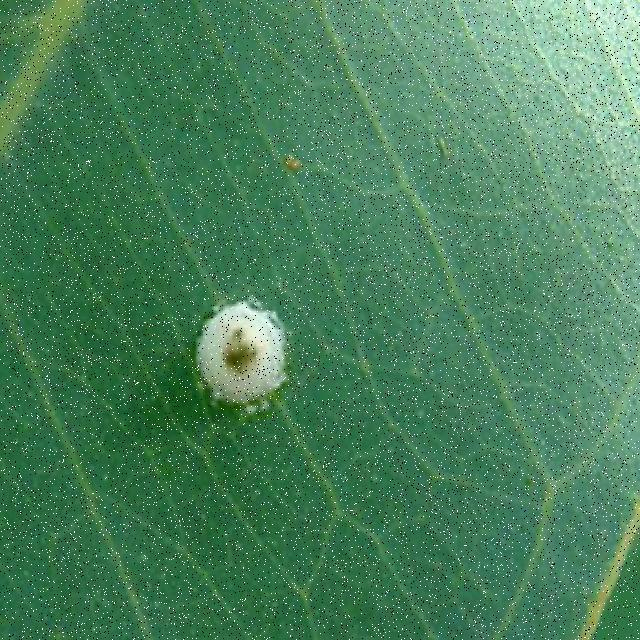Whiteflies: (172, 288, 295, 412)
